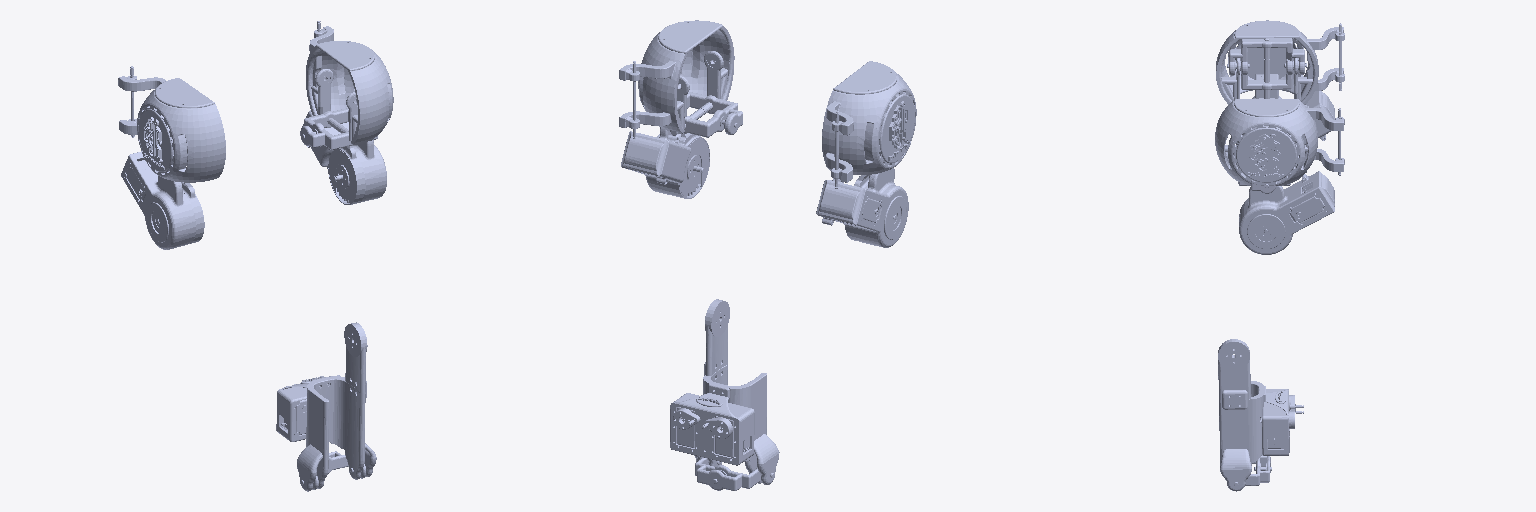
URDF robot description (all_exo_new_urdf_7_4):
<robot
  name="all_exo_new_urdf_7_4">
  <link
    name="pelvis_link">
    <inertial>
      <origin
        xyz="0.10486 -0.19698 0.14242"
        rpy="0 0 0" />
      <mass
        value="0.87618" />
      <inertia
        ixx="0.00054272"
        ixy="-2.7795E-06"
        ixz="-1.8899E-06"
        iyy="0.0018275"
        iyz="2.8215E-05"
        izz="0.0018189" />
    </inertial>
    <visual>
      <origin
        xyz="0 0 0"
        rpy="0 0 0" />
      <geometry>
        <mesh
          filename="package://all_exo_new_urdf_7_4/meshes/pelvis_link.STL" />
      </geometry>
      <material
        name="">
        <color
          rgba="0.79216 0.81961 0.93333 1" />
      </material>
    </visual>
    <collision>
      <origin
        xyz="0 0 0"
        rpy="0 0 0" />
      <geometry>
        <mesh
          filename="package://all_exo_new_urdf_7_4/meshes/pelvis_link.STL" />
      </geometry>
    </collision>
  </link>
  <link
    name="l_leg_hip_y_link">
    <inertial>
      <origin
        xyz="3.91489940153311E-05 0.064658467084771 0.000195019300466948"
        rpy="0 0 0" />
      <mass
        value="0.0865282073086405" />
      <inertia
        ixx="6.28988232637541E-06"
        ixy="-4.76591689072165E-09"
        ixz="1.97203996620393E-08"
        iyy="5.15088996299801E-06"
        iyz="-2.37412429486974E-08"
        izz="1.13918898641058E-06" />
    </inertial>
    <visual>
      <origin
        xyz="0 0 0"
        rpy="0 0 0" />
      <geometry>
        <mesh
          filename="package://all_exo_new_urdf_7_4/meshes/l_leg_hip_y_link.STL" />
      </geometry>
      <material
        name="">
        <color
          rgba="0.792156862745098 0.819607843137255 0.933333333333333 1" />
      </material>
    </visual>
    <collision>
      <origin
        xyz="0 0 0"
        rpy="0 0 0" />
      <geometry>
        <mesh
          filename="package://all_exo_new_urdf_7_4/meshes/l_leg_hip_y_link.STL" />
      </geometry>
    </collision>
  </link>
  <joint
    name="l_leg_hip_y"
    type="revolute">
    <origin
      xyz="0.22985 -0.24294 0.078481"
      rpy="1.5708 0 0" />
    <parent
      link="pelvis_link" />
    <child
      link="l_leg_hip_y_link" />
    <axis
      xyz="0 1 0" />
    <limit
      lower="0"
      upper="6.28"
      effort="1000"
      velocity="6.5" />
    <dynamics
      damping="0.1"
      friction="0" />
  </joint>
  <link
    name="l_leg_hip_r_link">
    <inertial>
      <origin
        xyz="0.0267450489884957 -0.0578970138026583 -0.022764403905338"
        rpy="0 0 0" />
      <mass
        value="0.57732261179279" />
      <inertia
        ixx="0.00199162169853065"
        ixy="-2.92633289726119E-06"
        ixz="-1.35971455170849E-05"
        iyy="0.000385603527413131"
        iyz="-0.000341820278449353"
        izz="0.00181446392966293" />
    </inertial>
    <visual>
      <origin
        xyz="0 0 0"
        rpy="0 0 0" />
      <geometry>
        <mesh
          filename="package://all_exo_new_urdf_7_4/meshes/l_leg_hip_r_link.STL" />
      </geometry>
      <material
        name="">
        <color
          rgba="0.792156862745098 0.819607843137255 0.933333333333333 1" />
      </material>
    </visual>
    <collision>
      <origin
        xyz="0 0 0"
        rpy="0 0 0" />
      <geometry>
        <mesh
          filename="package://all_exo_new_urdf_7_4/meshes/l_leg_hip_r_link.STL" />
      </geometry>
    </collision>
  </link>
  <joint
    name="l_leg_hip_r"
    type="revolute">
    <origin
      xyz="0 0.0618 0"
      rpy="0 0 0" />
    <parent
      link="l_leg_hip_y_link" />
    <child
      link="l_leg_hip_r_link" />
    <axis
      xyz="-0.0038502 0 0.99999" />
    <limit
      lower="0"
      upper="6.28"
      effort="1000"
      velocity="6.5" />
    <dynamics
      damping="0.1"
      friction="0" />
  </joint>
  <link
    name="l_leg_hip_p_link">
    <inertial>
      <origin
        xyz="0.000116188399237854 -0.159183576861761 0.018732669909887"
        rpy="0 0 0" />
      <mass
        value="0.286678555449467" />
      <inertia
        ixx="0.00114218476024795"
        ixy="4.17774250045668E-07"
        ixz="6.6659846718969E-07"
        iyy="9.2518603710799E-05"
        iyz="0.000208313587693521"
        izz="0.00105234705913894" />
    </inertial>
    <visual>
      <origin
        xyz="0 0 0"
        rpy="0 0 0" />
      <geometry>
        <mesh
          filename="package://all_exo_new_urdf_7_4/meshes/l_leg_hip_p_link.STL" />
      </geometry>
      <material
        name="">
        <color
          rgba="0.792156862745098 0.819607843137255 0.933333333333333 1" />
      </material>
    </visual>
    <collision>
      <origin
        xyz="0 0 0"
        rpy="0 0 0" />
      <geometry>
        <mesh
          filename="package://all_exo_new_urdf_7_4/meshes/l_leg_hip_p_link.STL" />
      </geometry>
    </collision>
  </link>
  <joint
    name="l_leg_hip_p"
    type="revolute">
    <origin
      xyz="-0.00019015 -0.14104 0.00076427"
      rpy="-1.5521 1.3637 -1.5538" />
    <parent
      link="l_leg_hip_r_link" />
    <child
      link="l_leg_hip_p_link" />
    <axis
      xyz="0 0 1" />
    <limit
      lower="0"
      upper="6.28"
      effort="1000"
      velocity="6.5" />
    <dynamics
      damping="0.1"
      friction="0" />
  </joint>
  <link
    name="l_leg_kn_p_link">
    <inertial>
      <origin
        xyz="-0.029092 -0.12792 -0.034415"
        rpy="0 0 0" />
      <mass
        value="0.50185" />
      <inertia
        ixx="0.00096851"
        ixy="-0.00014254"
        ixz="-4.989E-05"
        iyy="0.00058261"
        iyz="-4.2913E-05"
        izz="0.00074525" />
    </inertial>
    <visual>
      <origin
        xyz="0 0 0"
        rpy="0 0 0" />
      <geometry>
        <mesh
          filename="package://all_exo_new_urdf_7_4/meshes/l_leg_kn_p_link.STL" />
      </geometry>
      <material
        name="">
        <color
          rgba="0.79216 0.81961 0.93333 1" />
      </material>
    </visual>
    <collision>
      <origin
        xyz="0 0 0"
        rpy="0 0 0" />
      <geometry>
        <mesh
          filename="package://all_exo_new_urdf_7_4/meshes/l_leg_kn_p_link.STL" />
      </geometry>
    </collision>
  </link>
  <joint
    name="l_leg_kn_p"
    type="revolute">
    <origin
      xyz="0 -0.2451 0"
      rpy="-0.33198 -1.5667 0.56022" />
    <parent
      link="l_leg_hip_p_link" />
    <child
      link="l_leg_kn_p_link" />
    <axis
      xyz="0.99999 -0.0013273 0.0038502" />
    <limit
      lower="0"
      upper="6.28"
      effort="1000"
      velocity="6.5" />
    <dynamics
      damping="0.1"
      friction="0" />
  </joint>
  <link
    name="l_leg_an_p_link">
    <inertial>
      <origin
        xyz="0.029948 -0.00049014 -0.031986"
        rpy="0 0 0" />
      <mass
        value="0.032575" />
      <inertia
        ixx="4.1828E-06"
        ixy="4.3165E-08"
        ixz="-1.5865E-12"
        iyy="6.8195E-06"
        iyz="2.5966E-14"
        izz="2.6382E-06" />
    </inertial>
    <visual>
      <origin
        xyz="0 0 0"
        rpy="0 0 0" />
      <geometry>
        <mesh
          filename="package://all_exo_new_urdf_7_4/meshes/l_leg_an_p_link.STL" />
      </geometry>
      <material
        name="">
        <color
          rgba="0.79216 0.81961 0.93333 1" />
      </material>
    </visual>
    <collision>
      <origin
        xyz="0 0 0"
        rpy="0 0 0" />
      <geometry>
        <mesh
          filename="package://all_exo_new_urdf_7_4/meshes/l_leg_an_p_link.STL" />
      </geometry>
    </collision>
  </link>
  <joint
    name="l_leg_an_p"
    type="revolute">
    <origin
      xyz="-0.00028227 -0.20999 0.00091884"
      rpy="-1.0239 1.5634 -1.0252" />
    <parent
      link="l_leg_kn_p_link" />
    <child
      link="l_leg_an_p_link" />
    <axis
      xyz="0 0 1" />
    <limit
      lower="0"
      upper="6.28"
      effort="1000"
      velocity="6.5" />
    <dynamics
      damping="0.1"
      friction="0" />
  </joint>
  <link
    name="l_leg_an_r_link">
    <inertial>
      <origin
        xyz="-0.036963 -0.045461 0.00047949"
        rpy="0 0 0" />
      <mass
        value="0.20448" />
      <inertia
        ixx="2.905E-05"
        ixy="-6.5652E-06"
        ixz="-2.2266E-06"
        iyy="7.423E-05"
        iyz="-1.1026E-07"
        izz="7.3595E-05" />
    </inertial>
    <visual>
      <origin
        xyz="0 0 0"
        rpy="0 0 0" />
      <geometry>
        <mesh
          filename="package://all_exo_new_urdf_7_4/meshes/l_leg_an_r_link.STL" />
      </geometry>
      <material
        name="">
        <color
          rgba="0.79216 0.81961 0.93333 1" />
      </material>
    </visual>
    <collision>
      <origin
        xyz="0 0 0"
        rpy="0 0 0" />
      <geometry>
        <mesh
          filename="package://all_exo_new_urdf_7_4/meshes/l_leg_an_r_link.STL" />
      </geometry>
    </collision>
  </link>
  <joint
    name="l_leg_an_r"
    type="revolute">
    <origin
      xyz="0 0 -0.031986"
      rpy="0.022566 -0.00036929 -4.1669E-06" />
    <parent
      link="l_leg_an_p_link" />
    <child
      link="l_leg_an_r_link" />
    <axis
      xyz="-0.99987 0.016364 0" />
    <limit
      lower="0"
      upper="6.28"
      effort="1000"
      velocity="6.5" />
    <dynamics
      damping="0.1"
      friction="0" />
  </joint>
  <link
    name="r_leg_hip_y_link">
    <inertial>
      <origin
        xyz="-3.60098880210595E-05 0.0646585007264543 0.000195615502412011"
        rpy="0 0 0" />
      <mass
        value="0.0865285747250378" />
      <inertia
        ixx="6.28792400897117E-06"
        ixy="4.38378294955236E-09"
        ixz="-1.02517952463626E-07"
        iyy="5.15088991911781E-06"
        iyz="-2.38139008830233E-08"
        izz="1.14116218729898E-06" />
    </inertial>
    <visual>
      <origin
        xyz="0 0 0"
        rpy="0 0 0" />
      <geometry>
        <mesh
          filename="package://all_exo_new_urdf_7_4/meshes/r_leg_hip_y_link.STL" />
      </geometry>
      <material
        name="">
        <color
          rgba="0.792156862745098 0.819607843137255 0.933333333333333 1" />
      </material>
    </visual>
    <collision>
      <origin
        xyz="0 0 0"
        rpy="0 0 0" />
      <geometry>
        <mesh
          filename="package://all_exo_new_urdf_7_4/meshes/r_leg_hip_y_link.STL" />
      </geometry>
    </collision>
  </link>
  <joint
    name="r_leg_hip_y"
    type="revolute">
    <origin
      xyz="-0.020151 -0.24294 0.078481"
      rpy="1.5708 0 0" />
    <parent
      link="pelvis_link" />
    <child
      link="r_leg_hip_y_link" />
    <axis
      xyz="0 1 0" />
    <limit
      lower="0"
      upper="6.28"
      effort="1000"
      velocity="6.5" />
    <dynamics
      damping="0.1"
      friction="0" />
  </joint>
  <link
    name="r_leg_hip_r_link">
    <inertial>
      <origin
        xyz="-0.0281204156627468 -0.0574298724097849 -0.0233214951273973"
        rpy="0 0 0" />
      <mass
        value="0.577328048094972" />
      <inertia
        ixx="0.0019911506063478"
        ixy="-3.02166901134013E-05"
        ixz="4.67708719458105E-06"
        iyy="0.000385657690986369"
        iyz="-0.000341155469876317"
        izz="0.00181430252622785" />
    </inertial>
    <visual>
      <origin
        xyz="0 0 0"
        rpy="0 0 0" />
      <geometry>
        <mesh
          filename="package://all_exo_new_urdf_7_4/meshes/r_leg_hip_r_link.STL" />
      </geometry>
      <material
        name="">
        <color
          rgba="0.792156862745098 0.819607843137255 0.933333333333333 1" />
      </material>
    </visual>
    <collision>
      <origin
        xyz="0 0 0"
        rpy="0 0 0" />
      <geometry>
        <mesh
          filename="package://all_exo_new_urdf_7_4/meshes/r_leg_hip_r_link.STL" />
      </geometry>
    </collision>
  </link>
  <joint
    name="r_leg_hip_r"
    type="revolute">
    <origin
      xyz="0 0.0618 0"
      rpy="0.00061113 -1.5247E-19 0.030665" />
    <parent
      link="r_leg_hip_y_link" />
    <child
      link="r_leg_hip_r_link" />
    <axis
      xyz="0.019919 0 0.9998" />
    <limit
      lower="0"
      upper="6.28"
      effort="1000"
      velocity="6.5" />
    <dynamics
      damping="0.1"
      friction="0" />
  </joint>
  <link
    name="r_leg_hip_p_link">
    <inertial>
      <origin
        xyz="-0.000119618394748278 -0.159183675797561 0.0186713820055504"
        rpy="0 0 0" />
      <mass
        value="0.286678786770336" />
      <inertia
        ixx="0.00114082283895834"
        ixy="-4.92449747489993E-07"
        ixz="-6.32813919597127E-07"
        iyy="9.11577765871152E-05"
        iyz="0.000207600861223223"
        izz="0.00105234571661871" />
    </inertial>
    <visual>
      <origin
        xyz="0 0 0"
        rpy="0 0 0" />
      <geometry>
        <mesh
          filename="package://all_exo_new_urdf_7_4/meshes/r_leg_hip_p_link.STL" />
      </geometry>
      <material
        name="">
        <color
          rgba="0.792156862745098 0.819607843137255 0.933333333333333 1" />
      </material>
    </visual>
    <collision>
      <origin
        xyz="0 0 0"
        rpy="0 0 0" />
      <geometry>
        <mesh
          filename="package://all_exo_new_urdf_7_4/meshes/r_leg_hip_p_link.STL" />
      </geometry>
    </collision>
  </link>
  <joint
    name="r_leg_hip_p"
    type="revolute">
    <origin
      xyz="-0.0022456 -0.14102 -0.00019031"
      rpy="-1.3075 -1.4942 1.2923" />
    <parent
      link="r_leg_hip_r_link" />
    <child
      link="r_leg_hip_p_link" />
    <axis
      xyz="0 0 -1" />
    <limit
      lower="0"
      upper="6.28"
      effort="1000"
      velocity="6.5" />
    <dynamics
      damping="0.1"
      friction="0" />
  </joint>
  <link
    name="r_leg_kn_p_link">
    <inertial>
      <origin
        xyz="0.026877 -0.12913 -0.032014"
        rpy="0 0 0" />
      <mass
        value="0.50185" />
      <inertia
        ixx="0.00097462"
        ixy="0.00013623"
        ixz="4.2383E-05"
        iyy="0.0005759"
        iyz="-4.2272E-05"
        izz="0.00074567" />
    </inertial>
    <visual>
      <origin
        xyz="0 0 0"
        rpy="0 0 0" />
      <geometry>
        <mesh
          filename="package://all_exo_new_urdf_7_4/meshes/r_leg_kn_p_link.STL" />
      </geometry>
      <material
        name="">
        <color
          rgba="0.79216 0.81961 0.93333 1" />
      </material>
    </visual>
    <collision>
      <origin
        xyz="0 0 0"
        rpy="0 0 0" />
      <geometry>
        <mesh
          filename="package://all_exo_new_urdf_7_4/meshes/r_leg_kn_p_link.STL" />
      </geometry>
    </collision>
  </link>
  <joint
    name="r_leg_kn_p"
    type="revolute">
    <origin
      xyz="0 -0.2451 0"
      rpy="0.67324 1.5453 0.65202" />
    <parent
      link="r_leg_hip_p_link" />
    <child
      link="r_leg_kn_p_link" />
    <axis
      xyz="0.99968 -0.015892 -0.019926" />
    <limit
      lower="0"
      upper="6.28"
      effort="1000"
      velocity="6.5" />
    <dynamics
      damping="0.1"
      friction="0" />
  </joint>
  <link
    name="r_leg_an_p_link">
    <inertial>
      <origin
        xyz="0.0299500118317793 -0.0003527129613492 0.032486237708059"
        rpy="0 0 0" />
      <mass
        value="0.0325752783592806" />
      <inertia
        ixx="4.18245398109744E-06"
        ixy="3.1064678573424E-08"
        ixz="-1.5602630172373E-12"
        iyy="6.81988765602678E-06"
        iyz="1.83746921930297E-14"
        izz="2.63816535620326E-06" />
    </inertial>
    <visual>
      <origin
        xyz="0 0 0"
        rpy="0 0 0" />
      <geometry>
        <mesh
          filename="package://all_exo_new_urdf_7_4/meshes/r_leg_an_p_link.STL" />
      </geometry>
      <material
        name="">
        <color
          rgba="0.792156862745098 0.819607843137255 0.933333333333333 1" />
      </material>
    </visual>
    <collision>
      <origin
        xyz="0 0 0"
        rpy="0 0 0" />
      <geometry>
        <mesh
          filename="package://all_exo_new_urdf_7_4/meshes/r_leg_an_p_link.STL" />
      </geometry>
    </collision>
  </link>
  <joint
    name="r_leg_an_p"
    type="revolute">
    <origin
      xyz="-0.0032248 -0.2099 0.0056129"
      rpy="1.8156 1.4885 1.7989" />
    <parent
      link="r_leg_kn_p_link" />
    <child
      link="r_leg_an_p_link" />
    <axis
      xyz="0 0 1" />
    <limit
      lower="0"
      upper="6.28"
      effort="1000"
      velocity="6.5" />
    <dynamics
      damping="0.1"
      friction="0" />
  </joint>
  <link
    name="r_leg_an_r_link">
    <inertial>
      <origin
        xyz="-0.0371352402831432 -0.0454478413493261 -0.00193667776316983"
        rpy="0 0 0" />
      <mass
        value="0.199852749313156" />
      <inertia
        ixx="2.84966330505607E-05"
        ixy="-8.0821623992085E-06"
        ixz="1.6544987600387E-06"
        iyy="6.41096702074288E-05"
        iyz="1.12058650825974E-07"
        izz="6.36141684782746E-05" />
    </inertial>
    <visual>
      <origin
        xyz="0 0 0"
        rpy="0 0 0" />
      <geometry>
        <mesh
          filename="package://all_exo_new_urdf_7_4/meshes/r_leg_an_r_link.STL" />
      </geometry>
      <material
        name="">
        <color
          rgba="0.792156862745098 0.819607843137255 0.933333333333333 1" />
      </material>
    </visual>
    <collision>
      <origin
        xyz="0 0 0"
        rpy="0 0 0" />
      <geometry>
        <mesh
          filename="package://all_exo_new_urdf_7_4/meshes/r_leg_an_r_link.STL" />
      </geometry>
    </collision>
  </link>
  <joint
    name="r_leg_an_r"
    type="revolute">
    <origin
      xyz="0 0 0.032486"
      rpy="-0.014623 0.00017221 -1.2591E-06" />
    <parent
      link="r_leg_an_p_link" />
    <child
      link="r_leg_an_r_link" />
    <axis
      xyz="-0.99993 0.011776 0" />
    <limit
      lower="0"
      upper="6.28"
      effort="1000"
      velocity="6.5" />
    <dynamics
      damping="0.1"
      friction="0" />
  </joint>
</robot>

--- Render facts (derived) ---
The picture shows the robot from 3 angles, left to right: view 1: azimuth 30°, elevation 25°; view 2: azimuth 150°, elevation 25°; view 3: azimuth 270°, elevation 25°; orthographic projection.
Robot: all_exo_new_urdf_7_4 — 13 links, 12 joints (12 revolute); root link pelvis_link; default pose: every joint at zero.
Visible links, largest first — view 1: r_leg_hip_r_link, l_leg_hip_r_link, l_leg_kn_p_link, l_leg_hip_y_link; view 2: r_leg_hip_r_link, l_leg_hip_r_link, l_leg_kn_p_link, l_leg_hip_y_link, l_leg_an_p_link; view 3: l_leg_hip_r_link, l_leg_kn_p_link, r_leg_hip_r_link, r_leg_hip_y_link.
Link boxes in pixels (x1,y1,x2,y2): r_leg_hip_r_link: [118, 66, 225, 249]; l_leg_hip_r_link: [302, 21, 393, 204]; l_leg_kn_p_link: [276, 322, 376, 491]; l_leg_hip_y_link: [300, 108, 382, 149]; r_leg_hip_r_link: [816, 61, 916, 247]; l_leg_hip_r_link: [619, 20, 734, 198]; l_leg_kn_p_link: [670, 299, 779, 484]; l_leg_hip_y_link: [670, 92, 742, 137]; l_leg_an_p_link: [695, 458, 761, 490]; l_leg_hip_r_link: [1215, 99, 1344, 254]; l_leg_kn_p_link: [1218, 339, 1303, 491]; r_leg_hip_r_link: [1216, 20, 1344, 144]; r_leg_hip_y_link: [1227, 38, 1306, 98].
Bounding box of the posed robot: 0.3812 × 0.2024 × 0.6629 m (x, y, z).
Meshes: 13 distinct files referenced, 6 mesh visuals loaded (6 binary STL); not drawn: 7 (reference not matched to a file when rendering).